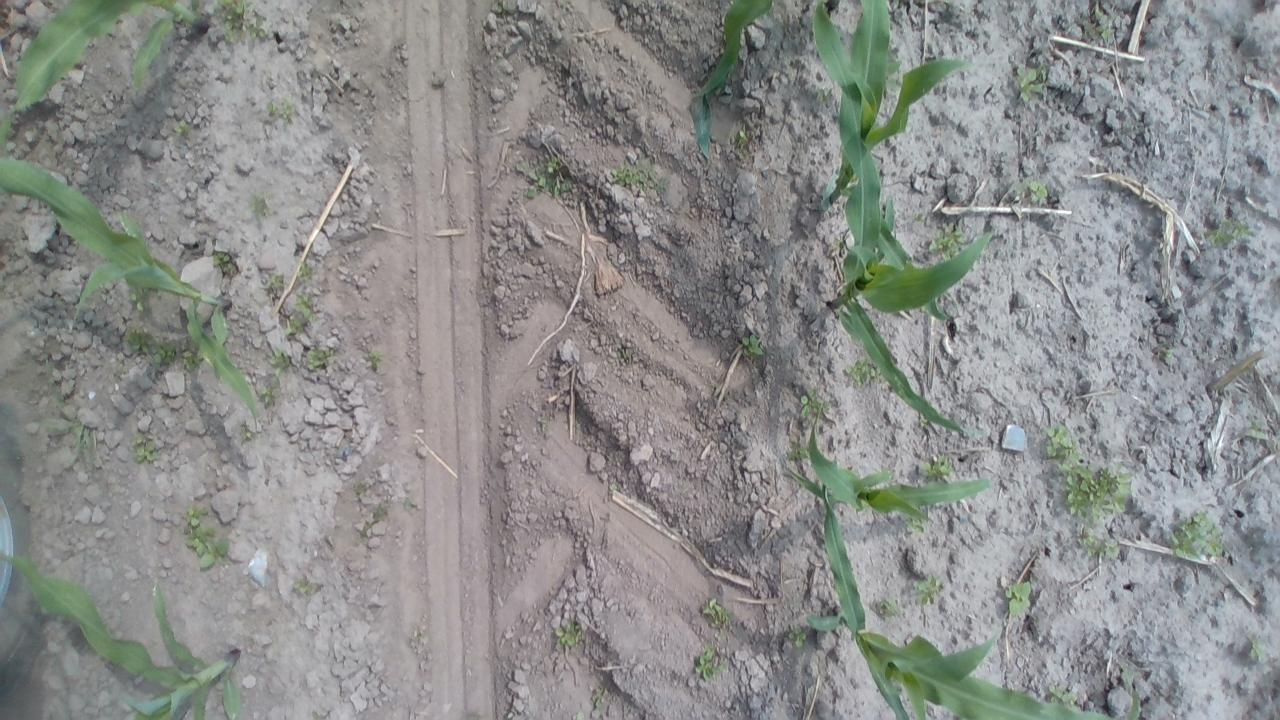Maize: (0, 100, 274, 434), (782, 391, 998, 646), (814, 164, 996, 442), (792, 581, 1154, 720), (808, 0, 976, 288), (2, 535, 255, 720), (0, 0, 228, 145), (690, 0, 847, 169)
Weeds: (32, 350, 103, 463), (1056, 458, 1136, 526), (1166, 506, 1229, 567), (178, 499, 232, 570), (607, 157, 684, 204), (514, 155, 575, 202), (210, 0, 268, 42), (352, 483, 388, 548), (689, 638, 734, 687), (1069, 522, 1124, 562), (568, 679, 620, 720), (1036, 424, 1086, 466), (921, 224, 970, 265), (285, 291, 326, 338), (793, 384, 838, 425), (698, 594, 741, 636), (840, 354, 889, 390), (1206, 210, 1252, 248), (1010, 64, 1054, 102), (240, 185, 276, 230), (914, 449, 953, 488), (1003, 574, 1036, 618), (911, 570, 950, 606), (1084, 0, 1116, 43), (128, 427, 163, 466), (116, 322, 153, 357), (554, 612, 588, 650), (300, 344, 342, 374), (1016, 178, 1058, 206), (264, 344, 296, 380), (901, 506, 936, 537), (265, 92, 298, 124), (174, 344, 207, 375), (1044, 678, 1079, 707), (207, 251, 244, 278), (738, 330, 769, 362), (1242, 635, 1272, 668), (292, 572, 330, 598), (874, 594, 910, 620), (534, 406, 564, 437), (730, 124, 759, 156), (150, 338, 178, 370), (258, 380, 288, 409), (127, 286, 156, 316), (782, 443, 818, 464), (786, 623, 811, 651), (1154, 343, 1182, 368), (172, 116, 200, 141), (360, 348, 390, 371), (616, 344, 641, 371), (293, 260, 318, 286), (266, 270, 292, 294), (811, 83, 834, 110), (409, 622, 431, 648), (489, 0, 516, 21), (237, 421, 258, 446), (832, 232, 852, 256), (309, 706, 343, 720), (1247, 421, 1266, 446), (401, 493, 420, 515), (605, 480, 624, 500), (909, 207, 926, 226)
